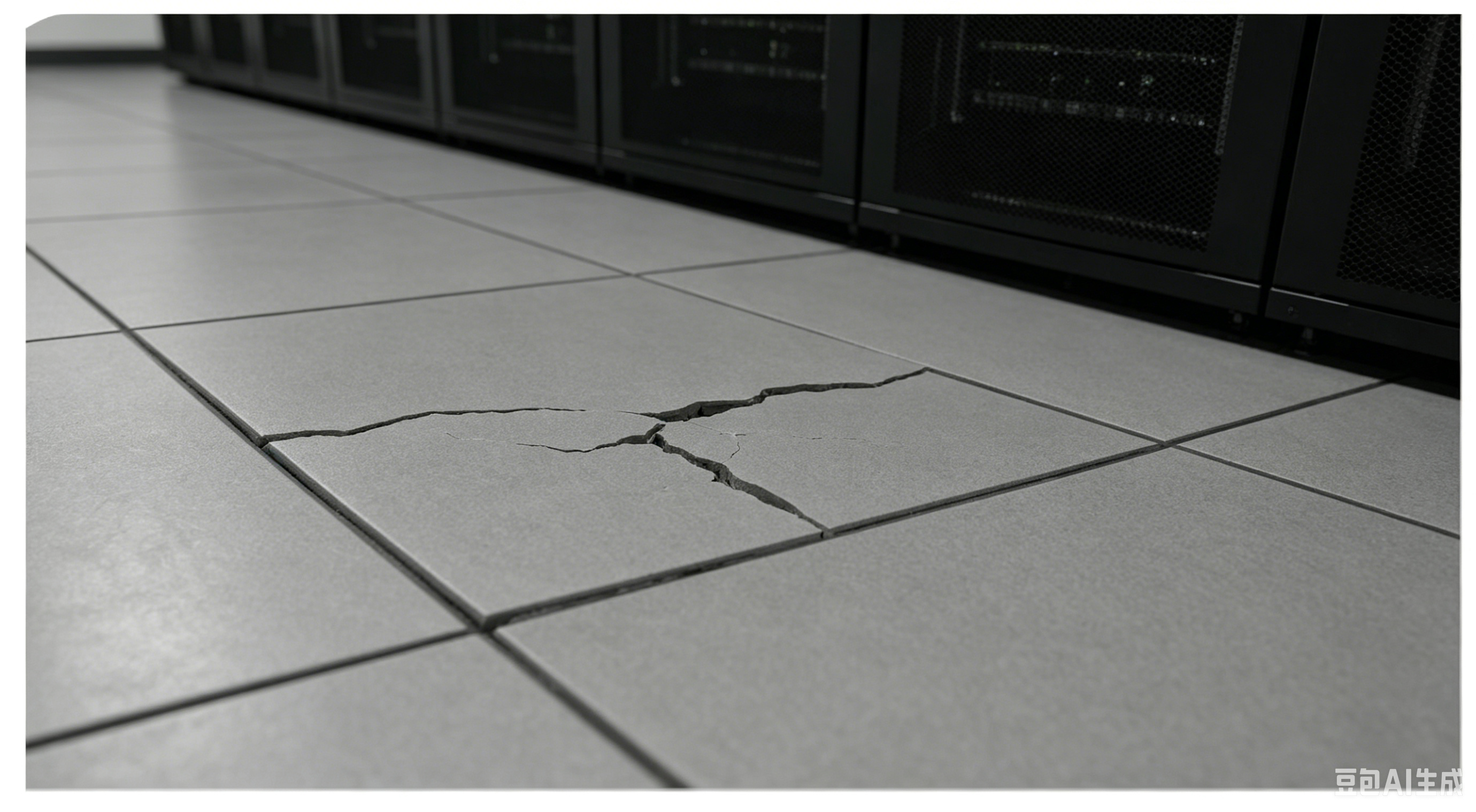floor_defect: (225, 385, 667, 460), (667, 362, 930, 432), (670, 430, 818, 531)
